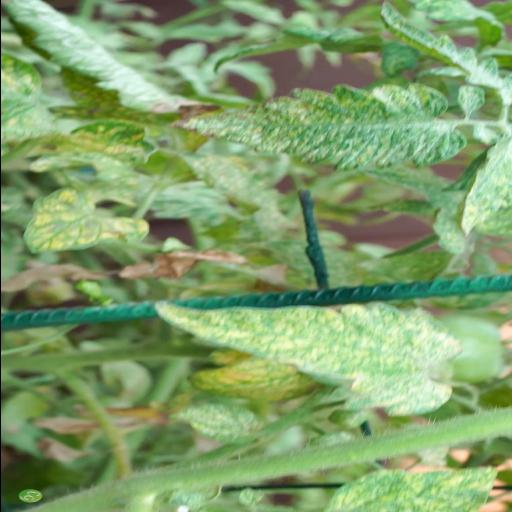Spider Mites: (152, 298, 462, 418), (168, 80, 470, 170), (14, 186, 152, 256), (322, 463, 500, 512)
